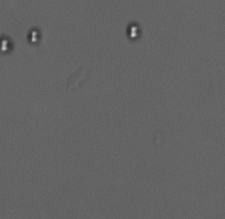Living Cell: (126, 21, 142, 41), (27, 27, 42, 44), (1, 35, 13, 56)
